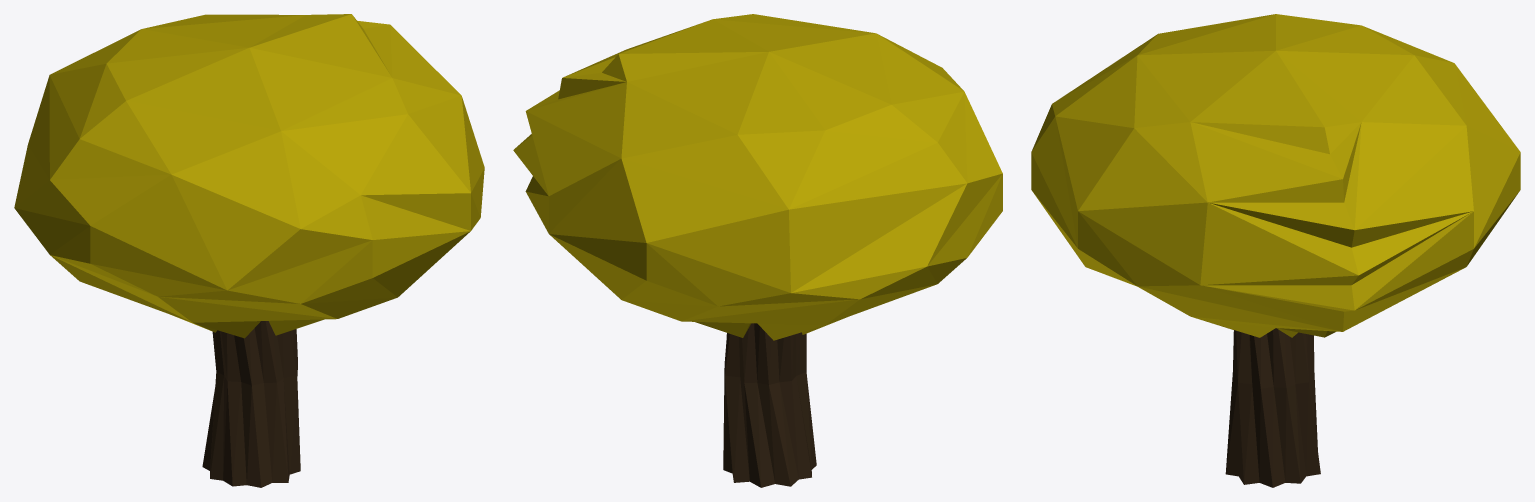
File: ShortFatTree_Yellow.fbx
3 views of the same model, side by side, from view 1: azimuth 30°, elevation 25°; view 2: azimuth 150°, elevation 25°; view 3: azimuth 270°, elevation 25° (orthographic).
Parts seen in each view (by area): view 1: Trees:pSphere3, Trees:pCylinder3; view 2: Trees:pSphere3, Trees:pCylinder3; view 3: Trees:pSphere3, Trees:pCylinder3.
Boxes of the visible parts, x1=… form: Trees:pSphere3: x1=14, y1=14, x2=484, y2=338; Trees:pCylinder3: x1=202, y1=321, x2=300, y2=487; Trees:pSphere3: x1=513, y1=14, x2=1002, y2=340; Trees:pCylinder3: x1=723, y1=323, x2=816, y2=487; Trees:pSphere3: x1=1031, y1=14, x2=1520, y2=337; Trees:pCylinder3: x1=1225, y1=328, x2=1320, y2=487.
Bounding box in the file's own units: 0.2629 × 0.2542 × 0.2702.
